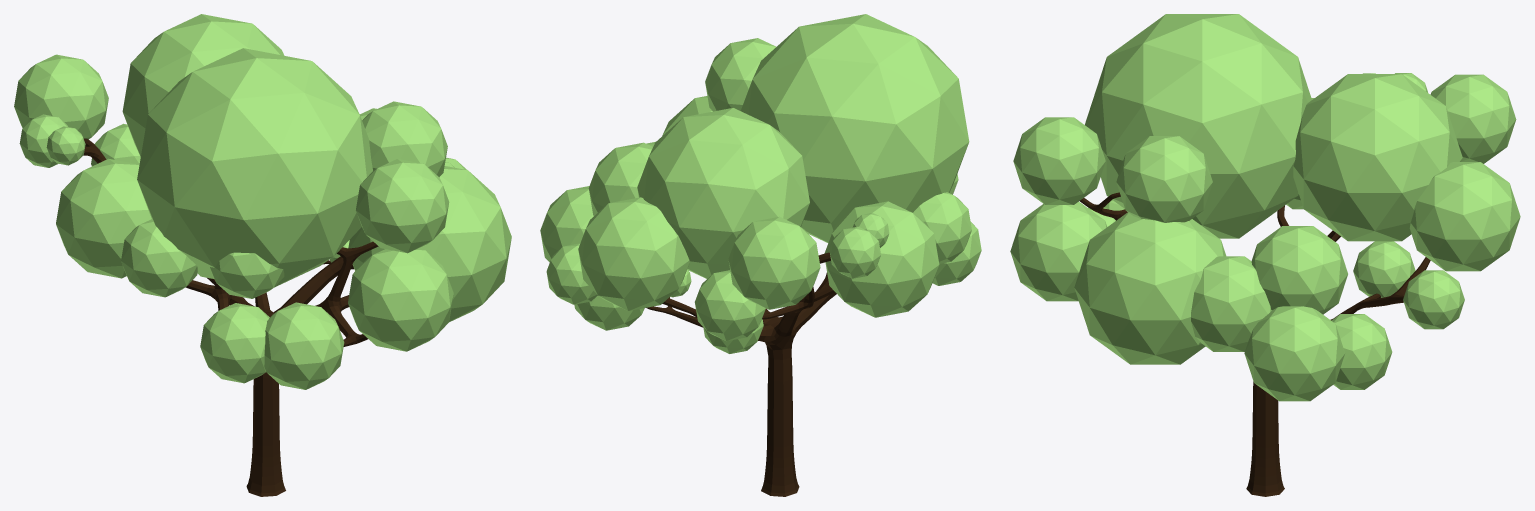
Rendered from Arbre1_VeryLowPoly.fbx.
3 renders of one model, left to right at view 1: azimuth 30°, elevation 25°; view 2: azimuth 150°, elevation 25°; view 3: azimuth 270°, elevation 25°, orthographic. The views are drawn at different scales.
Visible parts, largest first — view 1: Icosphere; view 2: Icosphere; view 3: Icosphere.
Boxes of the visible parts, <box> form: Icosphere: <box>14,14,511,496</box>; Icosphere: <box>540,14,981,496</box>; Icosphere: <box>1010,14,1520,496</box>.
Size of the model in its own units: 3315 by 3673 by 3774.
